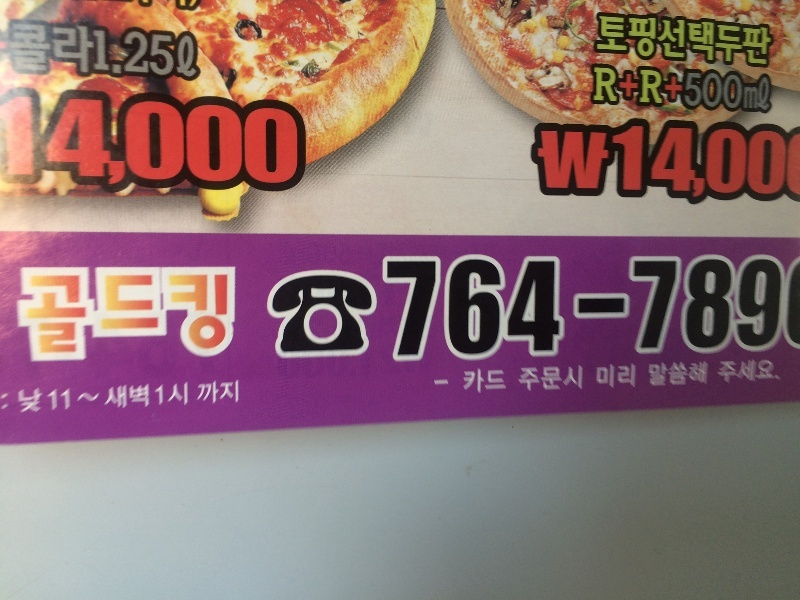text: (385, 256, 400, 364), (401, 256, 416, 364), (417, 256, 432, 364), (433, 256, 448, 364), (449, 256, 464, 364), (465, 256, 480, 364), (481, 256, 496, 364), (497, 256, 512, 364), (513, 256, 528, 364), (529, 256, 544, 364), (545, 256, 560, 364), (561, 256, 576, 364), (577, 256, 592, 364), (593, 256, 608, 364), (609, 256, 624, 364), (625, 256, 640, 364), (641, 256, 656, 364), (657, 256, 672, 364), (673, 256, 688, 364), (689, 256, 704, 364), (705, 256, 720, 364), (721, 256, 736, 364), (737, 256, 752, 364), (753, 256, 768, 364), (769, 256, 784, 364), (785, 256, 800, 364), (17, 266, 32, 364), (33, 266, 48, 364), (49, 266, 64, 364), (65, 266, 80, 364), (81, 266, 96, 364), (97, 266, 112, 364), (113, 266, 128, 364), (129, 266, 144, 364), (145, 266, 160, 364), (161, 266, 176, 364), (177, 266, 192, 364), (193, 266, 208, 364), (209, 266, 224, 364), (1, 91, 16, 188), (17, 91, 32, 188), (33, 91, 48, 188), (49, 91, 64, 188), (65, 91, 80, 188), (81, 91, 96, 188), (97, 91, 112, 188), (113, 91, 128, 188), (129, 91, 144, 188), (145, 91, 160, 188), (161, 91, 176, 188), (177, 91, 192, 188), (193, 91, 208, 188), (209, 91, 224, 188), (225, 91, 240, 188), (241, 91, 256, 188), (257, 91, 272, 188), (273, 91, 288, 188), (289, 91, 304, 188), (225, 266, 237, 364), (545, 125, 560, 200), (561, 125, 576, 200), (577, 125, 592, 200), (593, 125, 608, 200), (609, 125, 624, 200), (625, 125, 640, 200), (641, 125, 656, 200), (657, 125, 672, 200), (673, 125, 688, 200), (689, 125, 704, 200), (705, 125, 720, 200), (721, 125, 736, 200), (737, 125, 752, 200), (753, 125, 768, 200), (769, 125, 784, 200), (785, 125, 800, 200), (17, 17, 32, 85), (33, 17, 48, 85), (49, 17, 64, 85), (65, 17, 80, 85), (81, 17, 96, 85), (97, 17, 112, 85), (113, 17, 128, 85), (129, 17, 144, 85), (145, 17, 160, 85), (161, 17, 176, 85), (177, 17, 192, 85), (609, 12, 624, 69), (625, 12, 640, 69), (641, 12, 656, 69), (657, 12, 672, 69), (673, 12, 688, 69), (689, 12, 704, 69), (705, 12, 720, 69), (721, 12, 736, 69), (737, 12, 752, 69), (753, 12, 768, 69), (533, 125, 544, 200), (593, 64, 608, 113), (609, 64, 624, 113), (625, 64, 640, 113), (641, 64, 656, 113), (657, 64, 672, 113), (673, 64, 688, 113), (689, 64, 704, 113), (705, 64, 720, 113), (721, 64, 736, 113), (737, 64, 752, 113), (753, 64, 768, 113), (6, 17, 16, 85), (193, 17, 203, 85), (597, 12, 608, 69), (17, 387, 32, 415), (33, 387, 48, 415), (49, 387, 64, 415), (113, 381, 128, 409), (129, 381, 144, 409), (145, 381, 160, 409), (161, 381, 176, 409), (529, 364, 544, 392), (545, 364, 560, 392), (561, 364, 576, 392), (609, 362, 624, 389), (657, 361, 672, 387), (673, 361, 688, 387), (689, 361, 704, 387), (721, 359, 736, 385), (737, 359, 752, 385), (753, 359, 768, 385), (209, 380, 224, 405), (225, 380, 240, 405), (465, 369, 480, 394), (481, 369, 496, 394), (769, 12, 775, 69), (769, 359, 782, 385), (177, 381, 189, 409), (596, 362, 608, 389), (381, 256, 384, 364), (196, 380, 208, 405), (625, 362, 636, 389), (769, 64, 775, 113), (518, 364, 528, 392), (497, 369, 508, 394), (104, 381, 112, 409), (65, 387, 72, 415), (577, 364, 584, 392), (81, 391, 96, 404), (649, 361, 656, 387), (434, 379, 448, 387), (305, 91, 306, 188), (705, 361, 708, 387), (97, 391, 101, 404), (718, 359, 720, 385), (77, 391, 80, 404), (463, 369, 464, 394), (449, 379, 451, 387)
